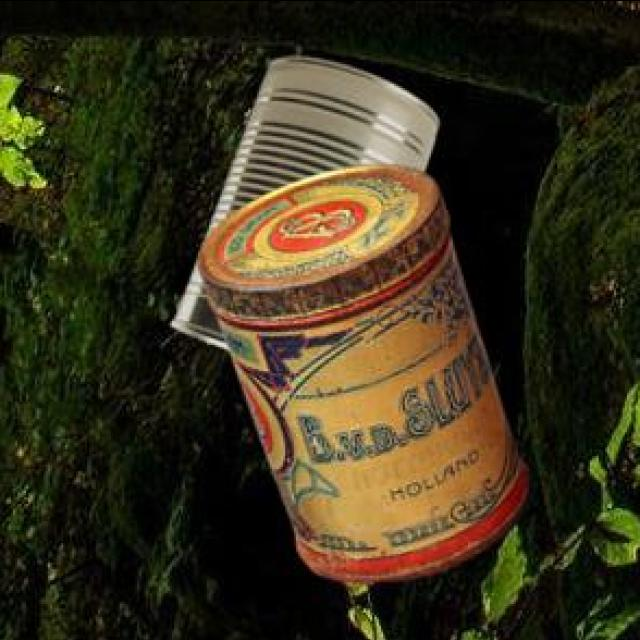logam: (195, 167, 526, 584), (169, 60, 434, 352)
